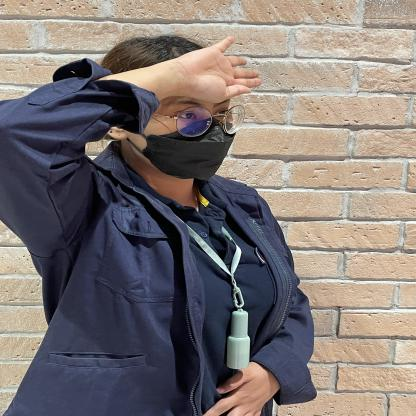Sick: (51, 24, 292, 124)
